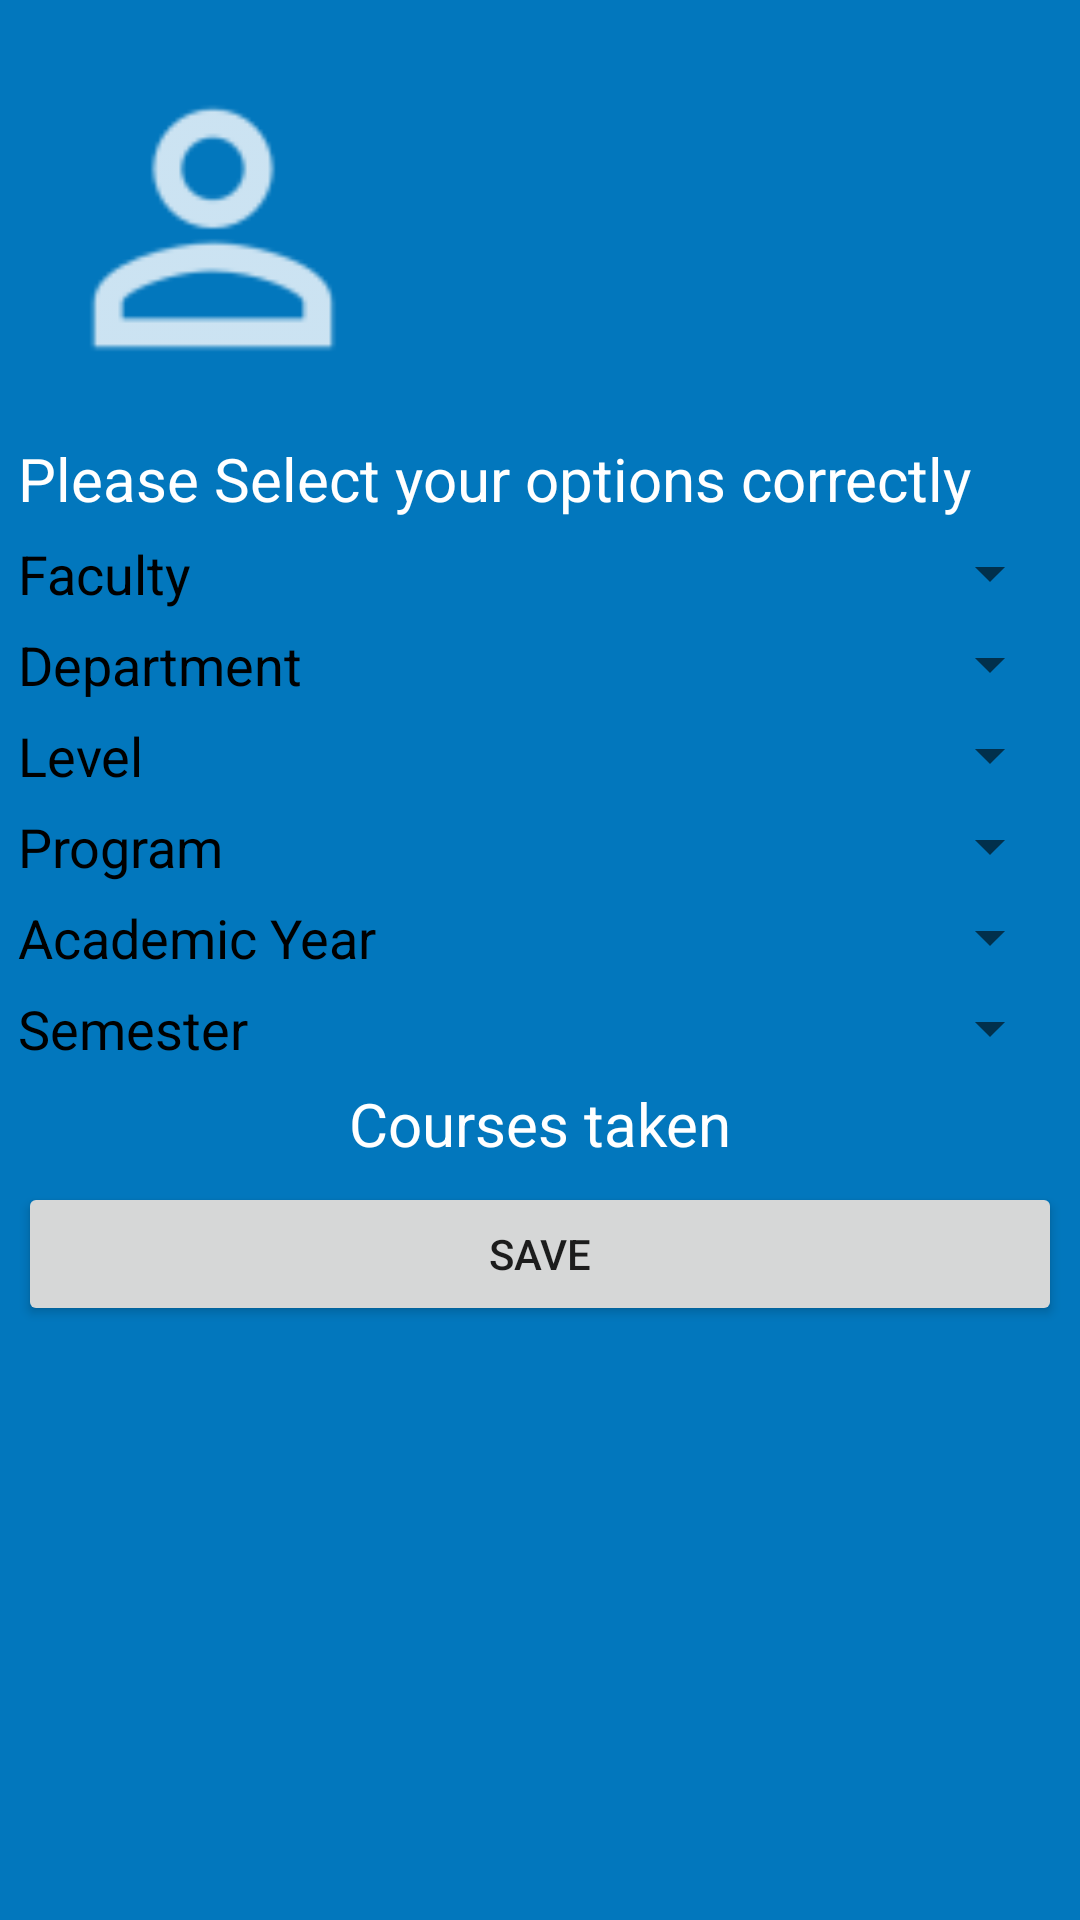

Where icons sit on this 1080w x 1920h app screen, as [x1, y1, x2, y2]:
user: [91, 107, 335, 350]
